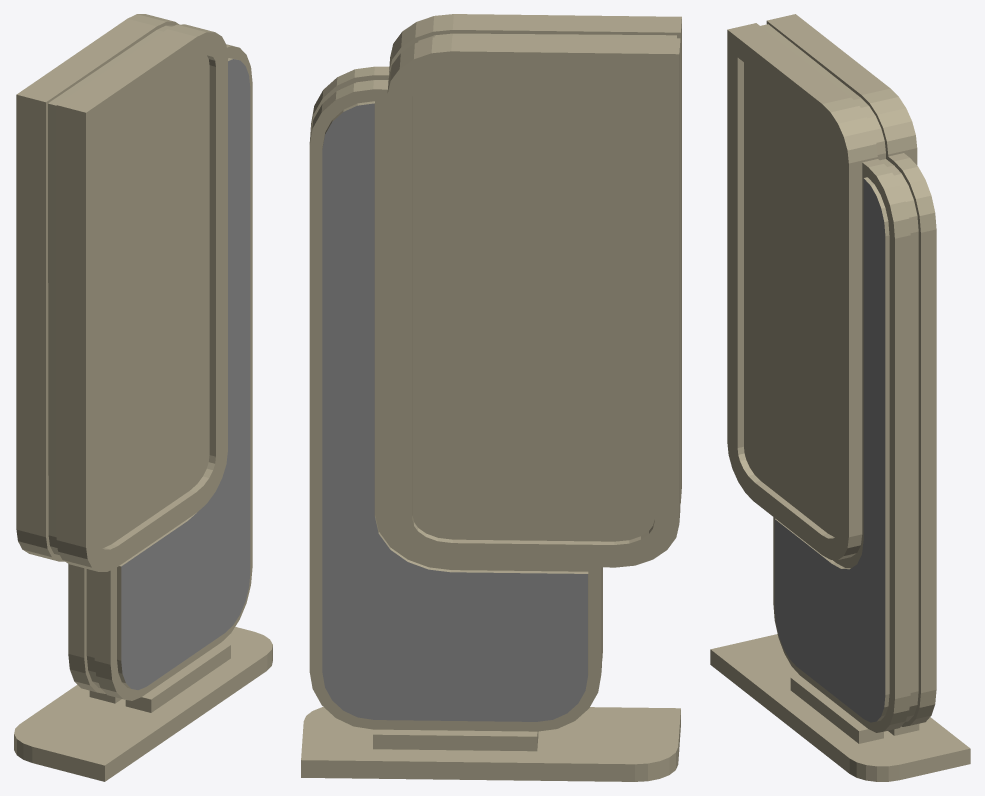
The model's file is Board.fbx.
3 renders of one model, left to right at view 1: azimuth 30°, elevation 25°; view 2: azimuth 150°, elevation 25°; view 3: azimuth 270°, elevation 25°, orthographic. The views are drawn at different scales.
Parts seen in each view (by area): view 1: Cube; view 2: Cube; view 3: Cube.
Boxes of the visible parts, bbox=[...] form: Cube: bbox=[14, 14, 272, 781]; Cube: bbox=[301, 14, 681, 781]; Cube: bbox=[710, 14, 970, 781].
Size of the model in its own units: 252 by 541 by 202.
